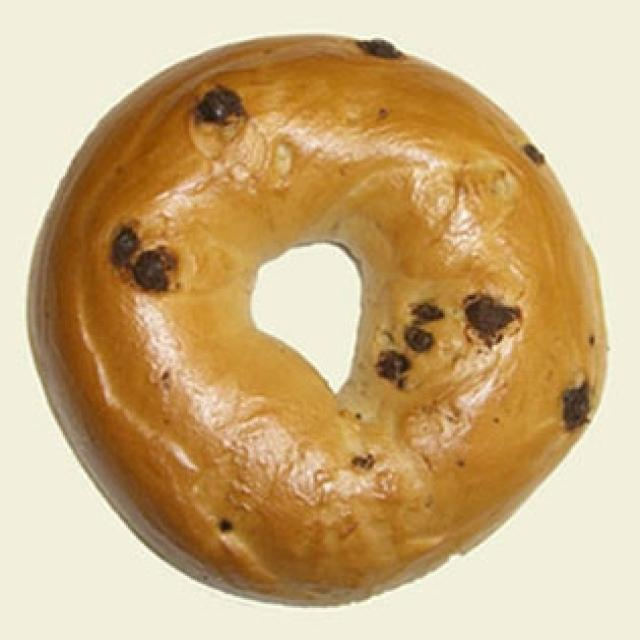面包点心: (27, 26, 618, 612)
